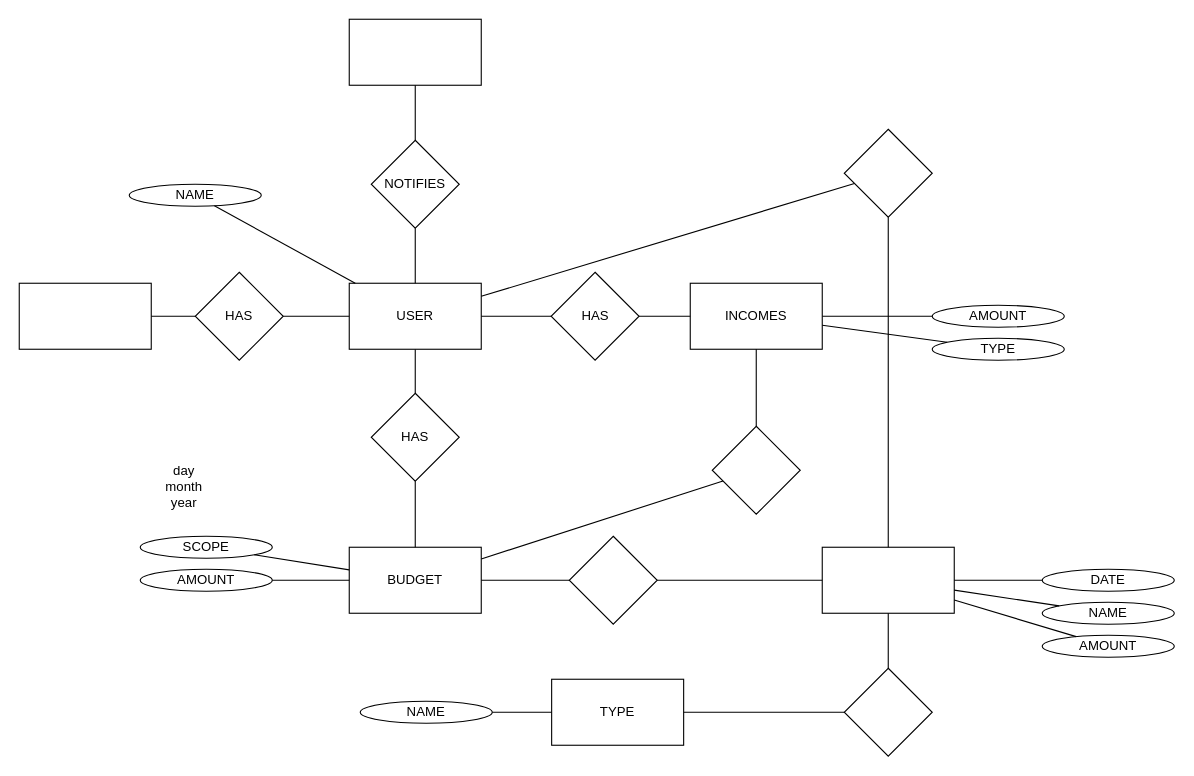
Image size: 1194x776. Some labels were removed from this diagram. The shapes that lost their labels are listed below. From the top down, each one's box as (x1, y1, x2, y2) in pixels, then its label:
(348, 18, 481, 85): BOT
(843, 128, 932, 217): REGISTER
(18, 282, 151, 349): ACCOUNT
(711, 425, 800, 514): LIMITS
(568, 535, 657, 624): LIMITED BY
(821, 546, 954, 613): EXPENSES
(843, 667, 932, 756): BELONGS TO
